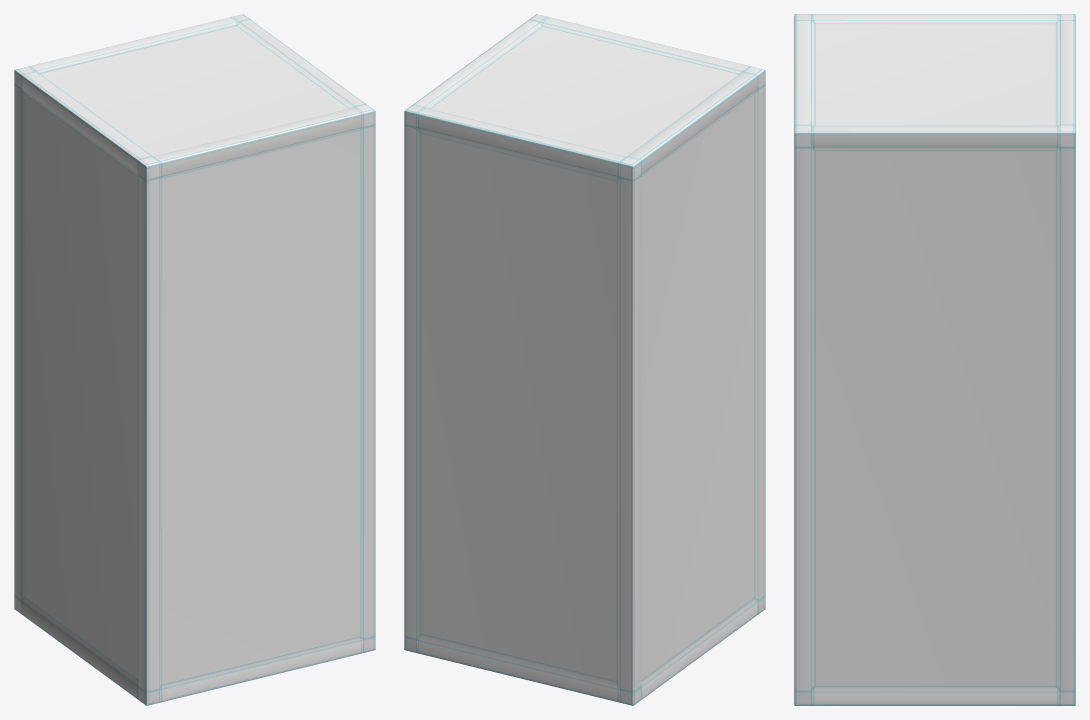
The model's file is tower.fbx.
3 views of the same model, side by side, from view 1: azimuth 30°, elevation 25°; view 2: azimuth 150°, elevation 25°; view 3: azimuth 270°, elevation 25° (orthographic). The views are drawn at different scales.
Parts seen in each view (by area): view 1: pCube2; view 2: pCube2; view 3: pCube2.
Boxes of the visible parts, x1,y1,x2,y2 form: pCube2: (14, 14, 375, 705); pCube2: (404, 14, 765, 705); pCube2: (794, 14, 1075, 705).
Bounding box in the file's own units: 800 × 1800 × 800.
